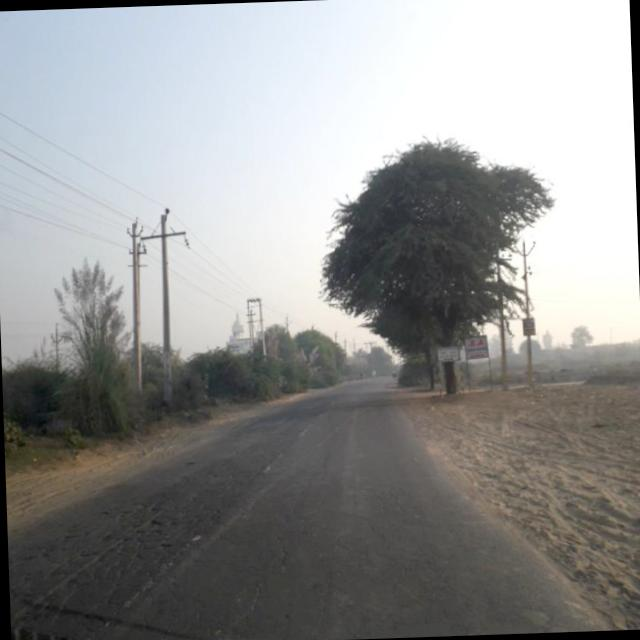crack: (7, 486, 268, 640)
